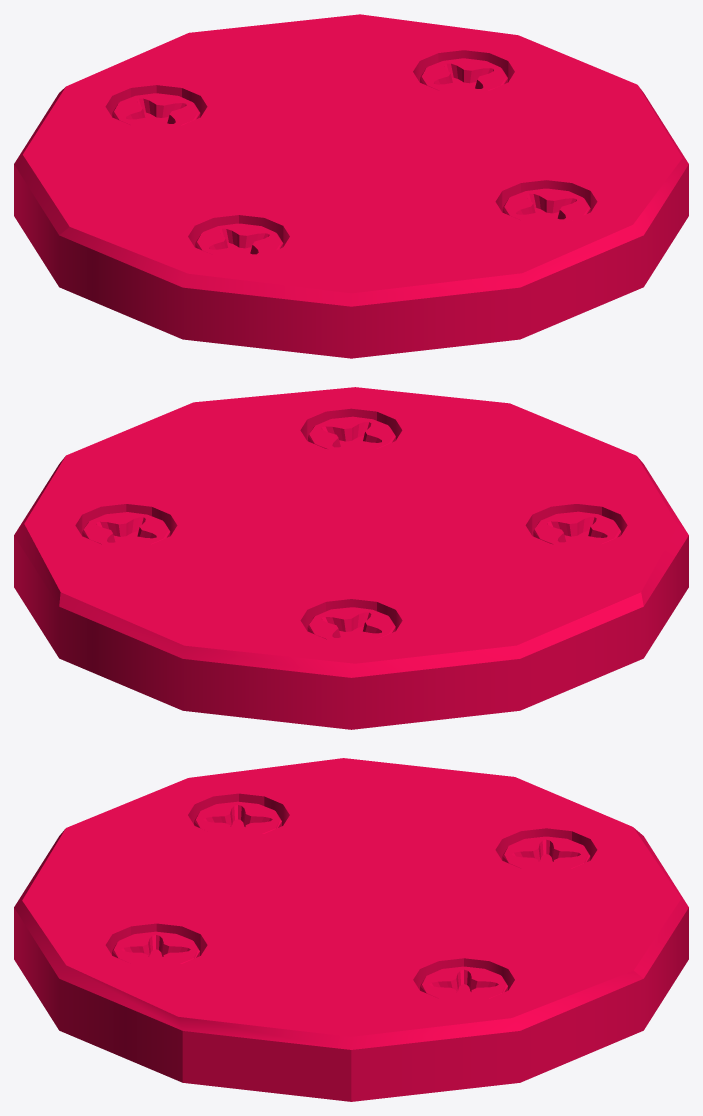
File: pipe_end.FBX
3 views of the same model, one above another, from view 1: azimuth 30°, elevation 25°; view 2: azimuth 150°, elevation 25°; view 3: azimuth 270°, elevation 25° (orthographic).
Parts seen in each view (by area): view 1: pipe_end; view 2: pipe_end; view 3: pipe_end.
Boxes of the visible parts, x1,y1,x2,y2 form: pipe_end: (14, 14, 688, 358); pipe_end: (14, 387, 688, 729); pipe_end: (14, 758, 688, 1101).
Bounding box in the file's own units: 17.54 × 1.77 × 17.54.
